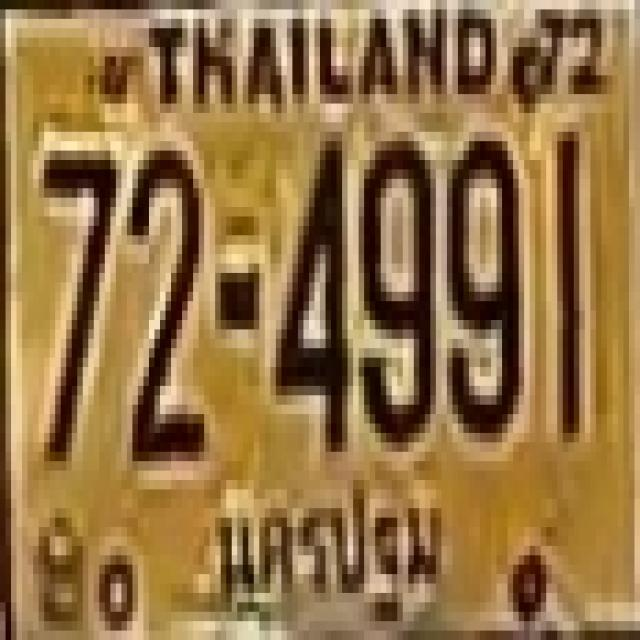1: (552, 127, 579, 438)
2: (127, 146, 199, 456)
4: (273, 132, 345, 442)
7: (38, 141, 116, 461), (38, 141, 116, 358)
9: (444, 132, 516, 433), (359, 136, 430, 438)
NPT: (207, 469, 442, 626)
